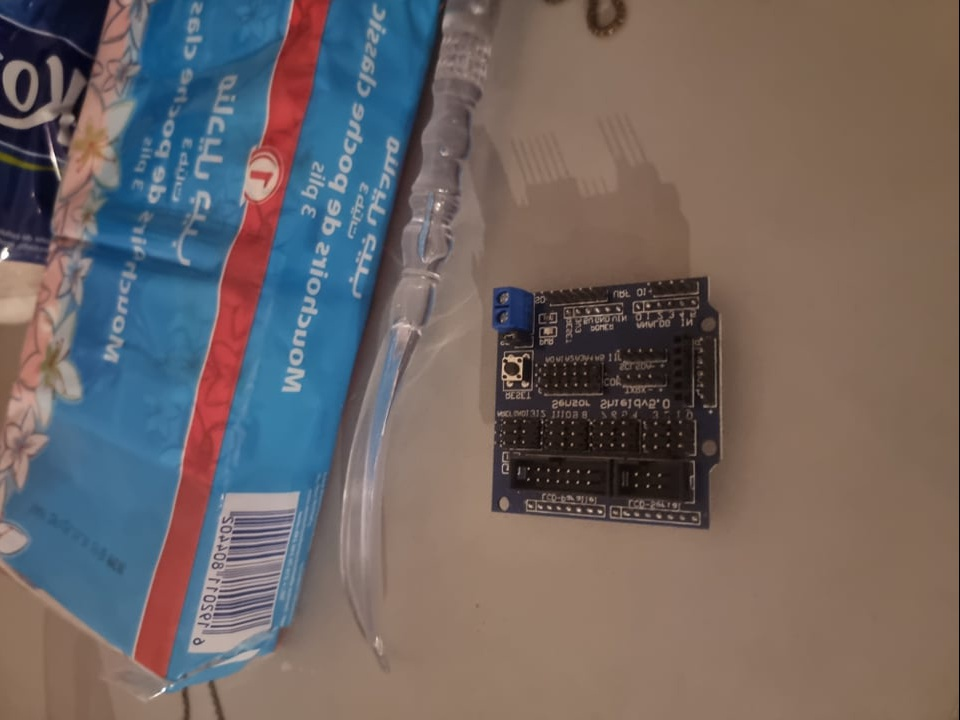5V EXPANSION: (490, 274, 723, 530)
